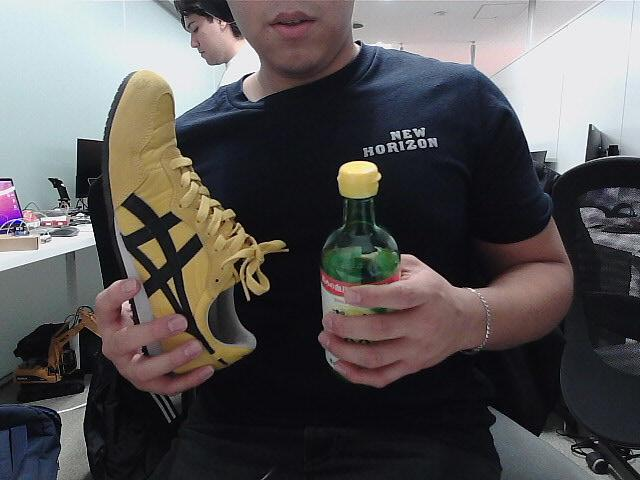Lemon_sapporo: (305, 153, 407, 389)
Shoes: (86, 68, 294, 396)
